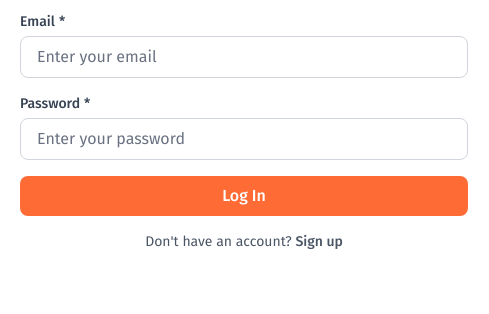
Test: LoginForm Component › Validation › should clear error when user starts typing
// Trigger validation error
Click the button "Log In" at (244, 196), box [20,176,468,216]
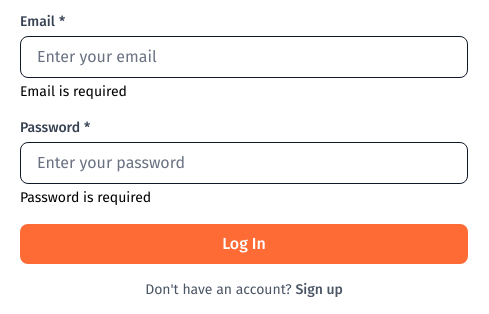
Now the text "Email is required" is shown, box [20,83,127,100]
// Start typing
Type "test@example.com" into the field labelled "Email*" at (244, 57), box [20,36,468,78]
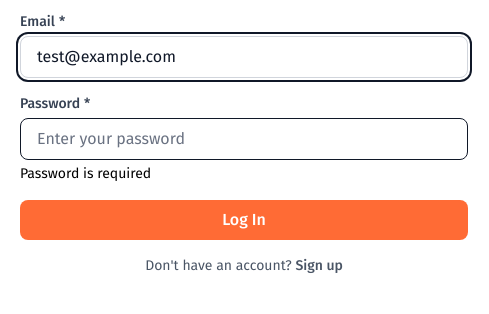
Now the text "Email is required" is gone
